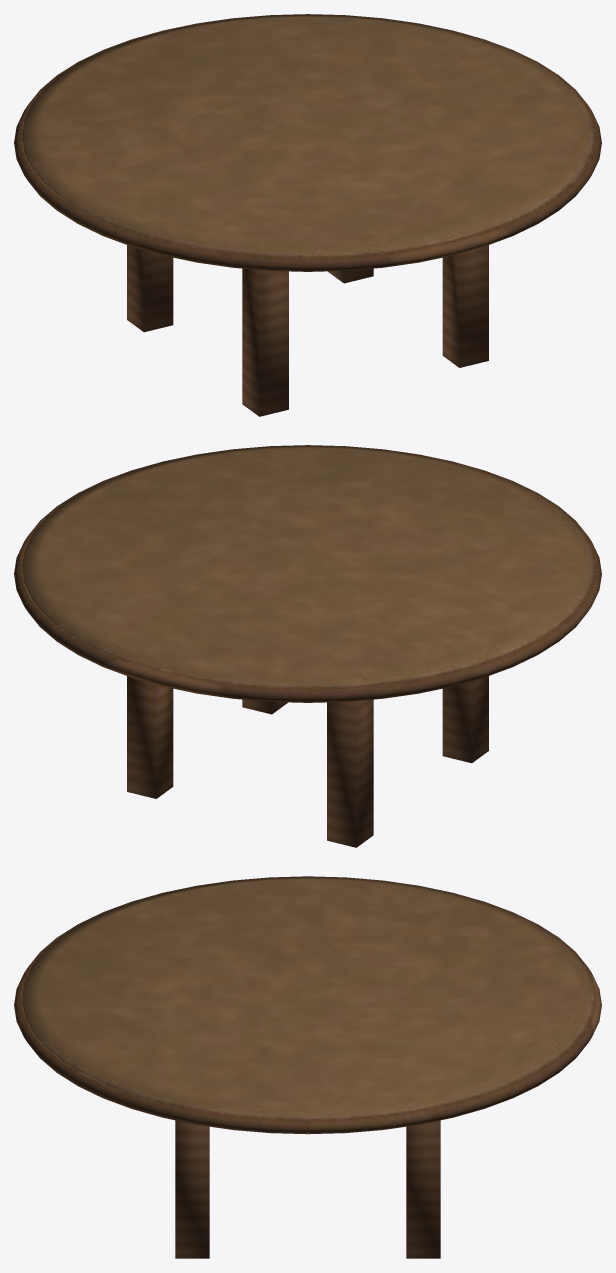
The model's file is chabudai.glb.
The picture shows the model from 3 angles, top to bottom: view 1: azimuth 30°, elevation 25°; view 2: azimuth 150°, elevation 25°; view 3: azimuth 270°, elevation 25°; orthographic projection.
Parts seen in each view (by area): view 1: prop_chabudai_wood; view 2: prop_chabudai_wood; view 3: prop_chabudai_wood.
Boxes of the visible parts, box(x1,y1,x2,y2) form: prop_chabudai_wood: box(14, 14, 601, 416); prop_chabudai_wood: box(14, 445, 601, 847); prop_chabudai_wood: box(14, 876, 601, 1258).
Bounding box in the file's own units: 1.73 × 0.68 × 1.73.
1 material, 1 textured.
